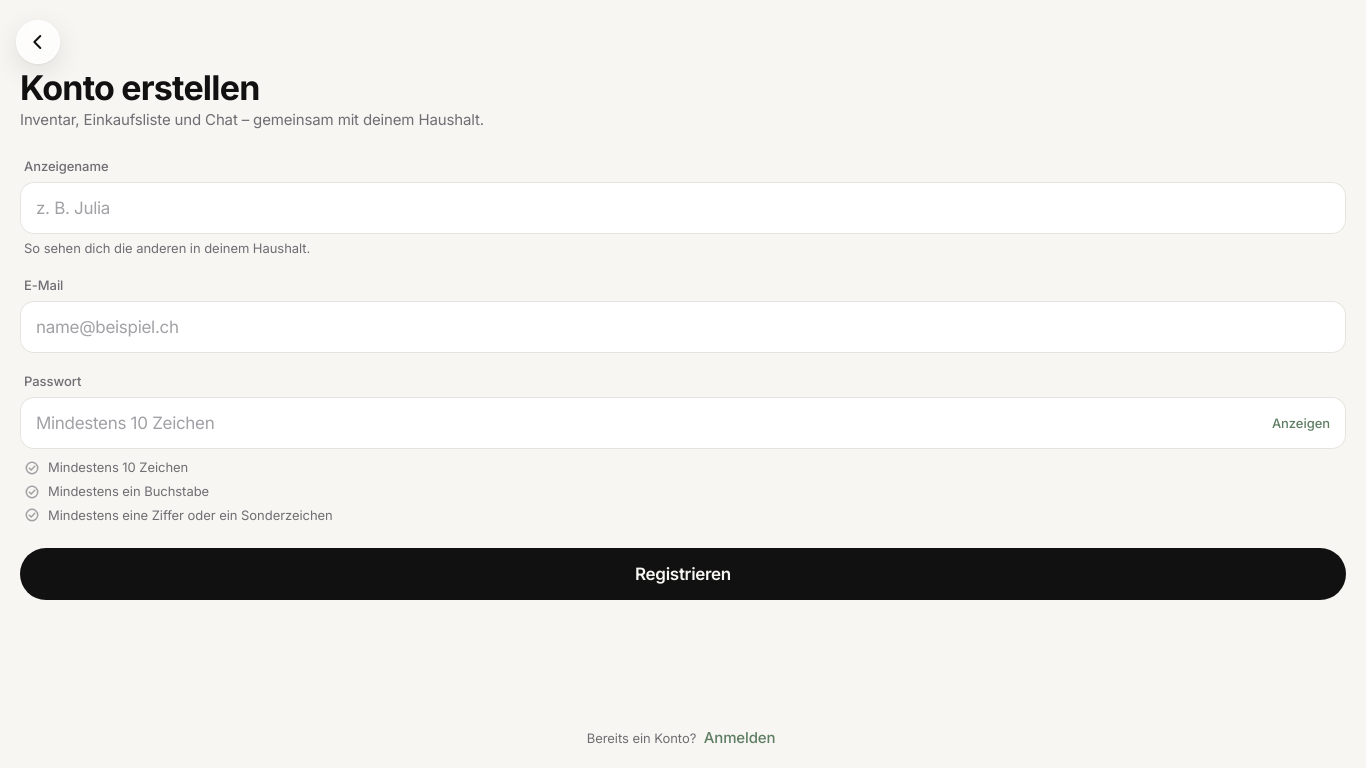
Test: RegisterForm › puts "e-mail already taken" on the e-mail field
In the field labelled "Anzeigename": (683, 208) [36,182,1330,234], type "Lena"
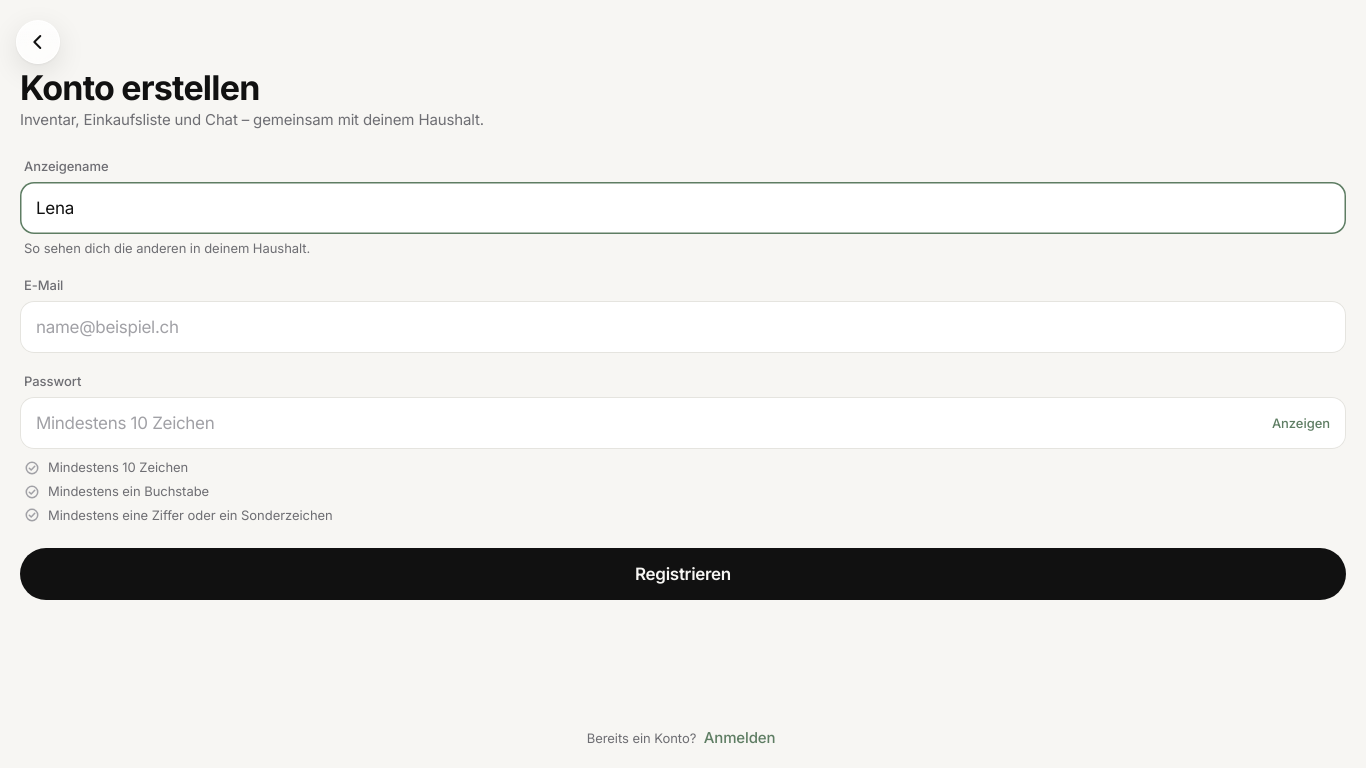
In the field labelled "E-Mail": (683, 328) [36,302,1330,354], type "lena@example.ch"
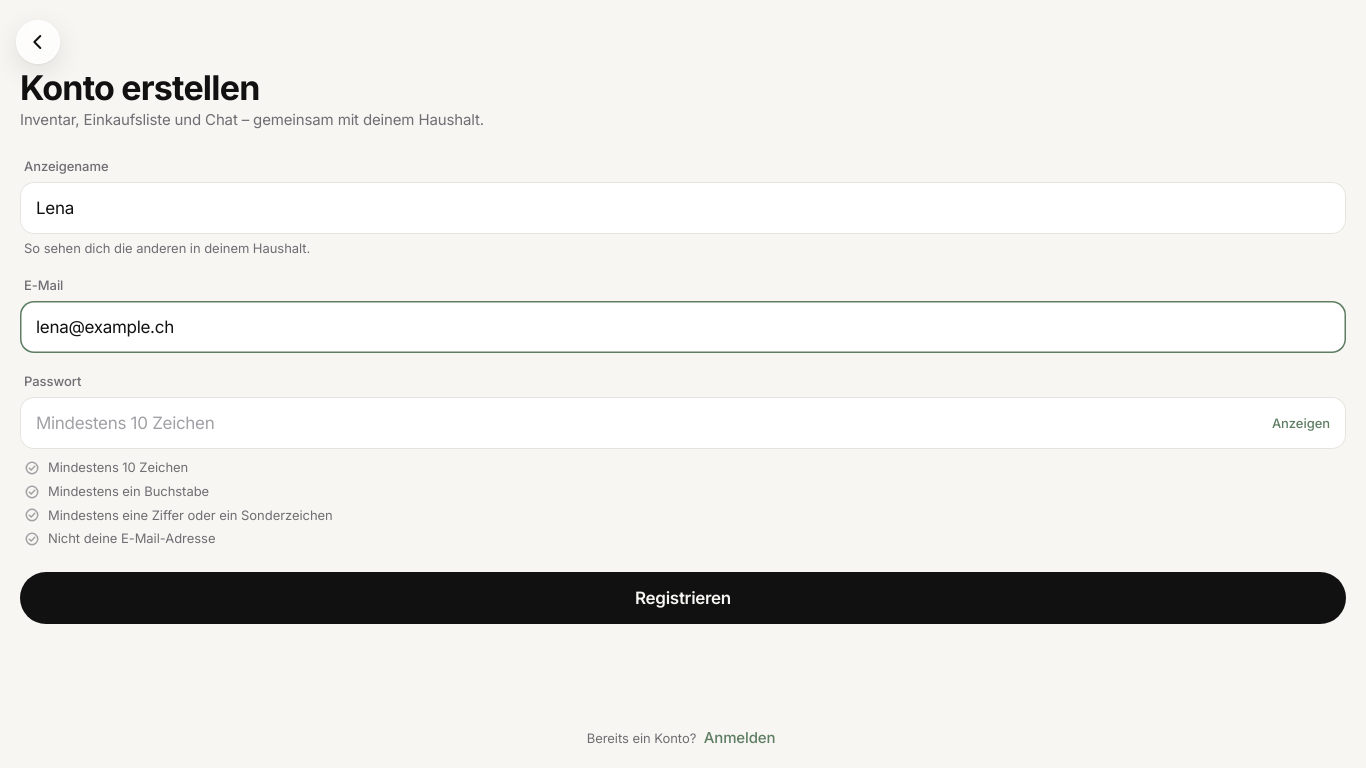
In the password field labelled "Passwort": (648, 424) [36,398,1260,450], type "Sommer-Wiese-7"
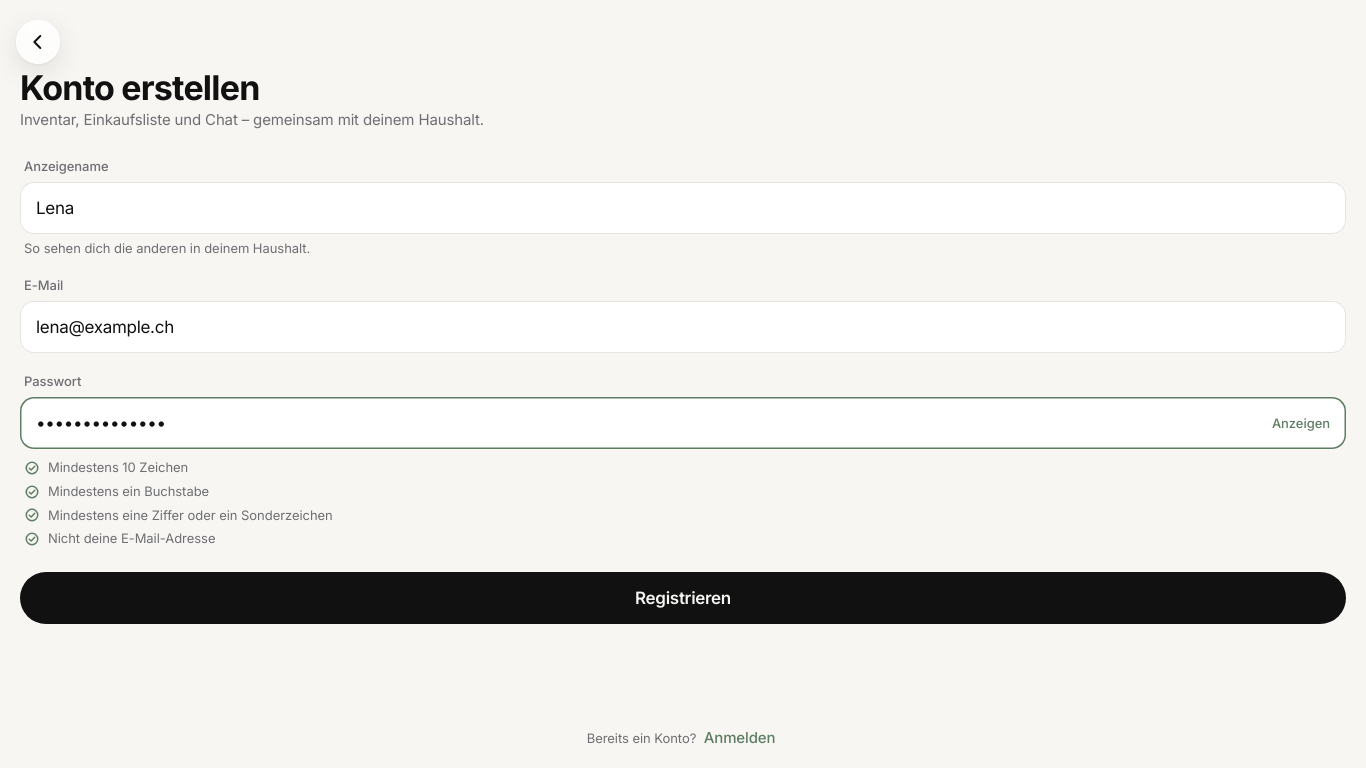
Click the button "Registrieren": (683, 598) [20,572,1346,624]
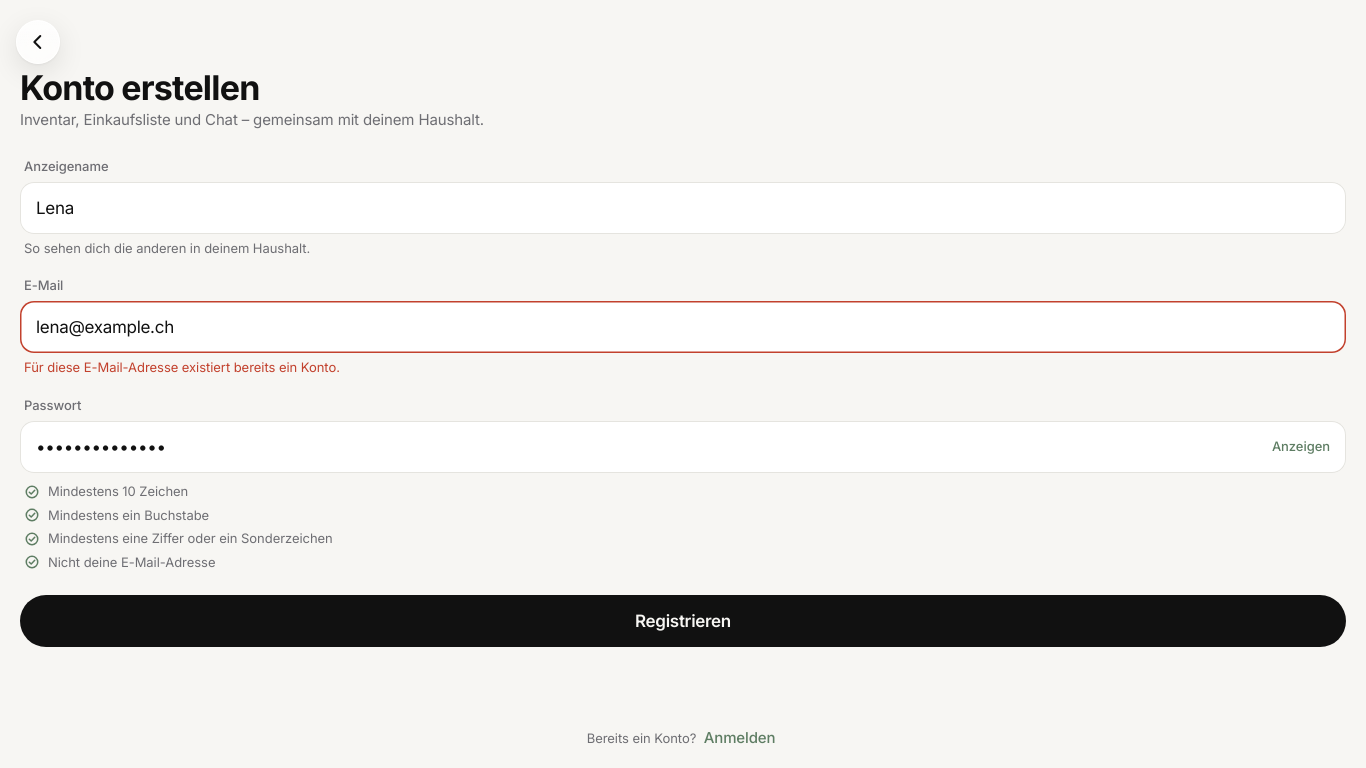
Expected: the text "Für diese E-Mail-Adresse existiert bereits ein Konto." is shown, [24,360,340,376]
